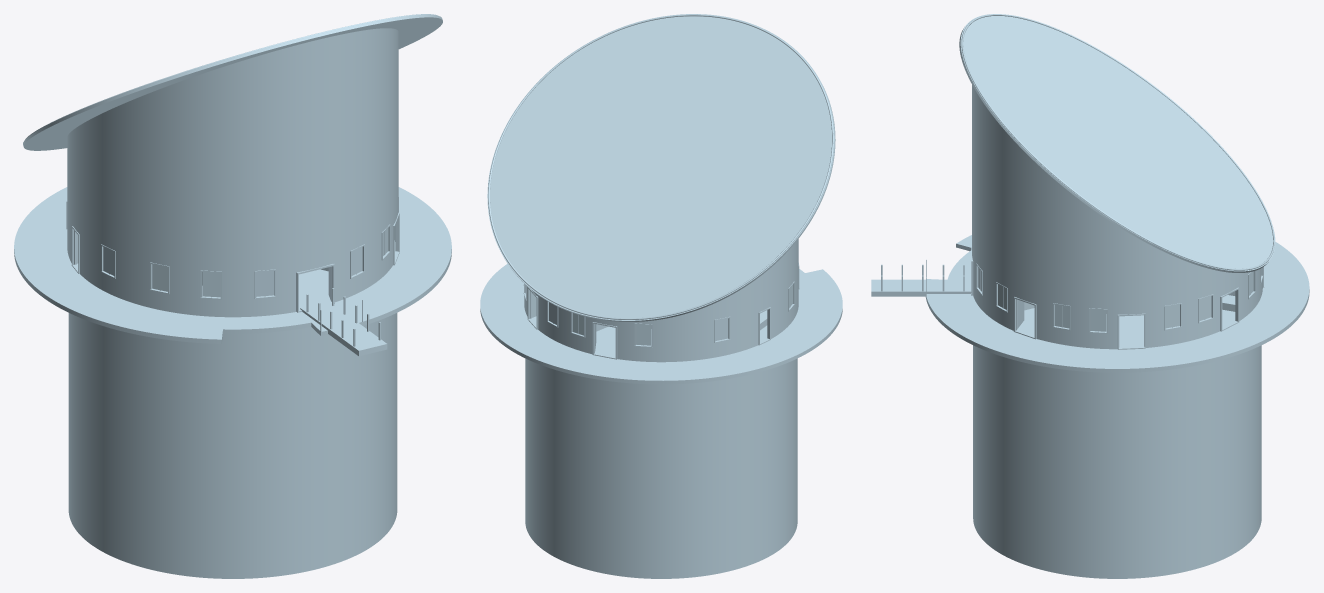
Rendered from tower_crown_1.glb.
3 renders of one model, left to right at view 1: azimuth 30°, elevation 25°; view 2: azimuth 150°, elevation 25°; view 3: azimuth 270°, elevation 25°, orthographic. The views are drawn at different scales.
Visible parts, largest first — view 1: Pit wall, Roof infill, Slab 0, Facade 0, Solar disc, Bridge deck, Solar rim; view 2: Solar disc, Pit wall, Slab 0, Facade 0, Solar rim, Roof infill; view 3: Pit wall, Solar disc, Roof infill, Slab 0, Facade 0, Solar rim, Bridge deck.
Part boxes in pixels (x1=…): Pit wall: x1=68, y1=313, x2=397, y2=578; Roof infill: x1=67, y1=28, x2=398, y2=260; Slab 0: x1=14, y1=187, x2=451, y2=343; Facade 0: x1=67, y1=194, x2=398, y2=317; Solar disc: x1=23, y1=15, x2=442, y2=150; Bridge deck: x1=300, y1=301, x2=387, y2=356; Solar rim: x1=25, y1=14, x2=437, y2=139; Solar disc: x1=487, y1=14, x2=835, y2=321; Pit wall: x1=525, y1=358, x2=797, y2=578; Slab 0: x1=480, y1=264, x2=842, y2=384; Facade 0: x1=524, y1=261, x2=798, y2=362; Solar rim: x1=488, y1=14, x2=833, y2=319; Roof infill: x1=684, y1=239, x2=798, y2=314; Pit wall: x1=973, y1=345, x2=1261, y2=578; Solar disc: x1=959, y1=14, x2=1275, y2=272; Roof infill: x1=972, y1=85, x2=1236, y2=299; Slab 0: x1=925, y1=235, x2=1309, y2=372; Facade 0: x1=972, y1=241, x2=1262, y2=349; Solar rim: x1=961, y1=14, x2=1274, y2=270; Bridge deck: x1=871, y1=279, x2=971, y2=296.
Bounding box in the file's own units: 20 × 27.3 × 22.8.
